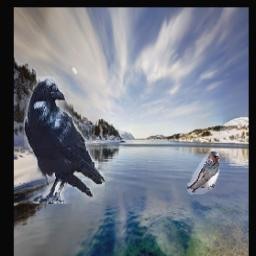Crow: (24, 76, 105, 204)
Swallow: (188, 150, 220, 194)
